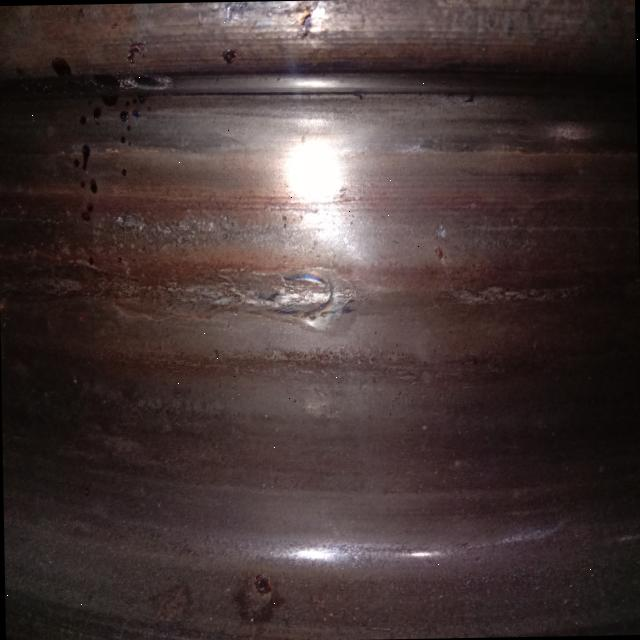flat: (38, 236, 371, 362)
